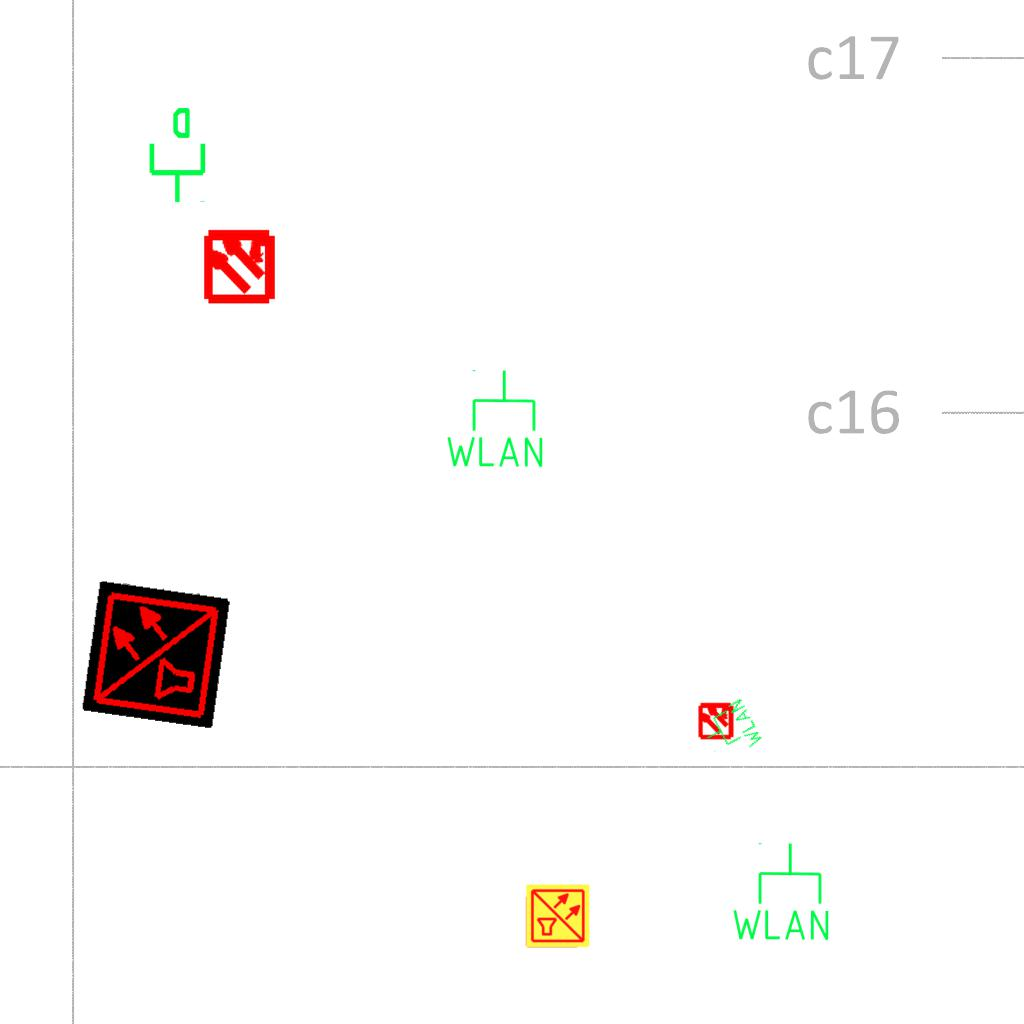Datenanschluss_einfach: (141, 105, 210, 205)
OKW_Multisensormelder_(Kombination_optischer_Rauch-Kahlenmonoxid_Waerme-Melder): (81, 579, 231, 729), (525, 883, 591, 949)
OT_Multisensormelder_(Kombination_RMO_WMD): (183, 208, 296, 321), (688, 692, 744, 748)
WLAN: (728, 840, 833, 944), (442, 367, 547, 471), (695, 695, 767, 767)
